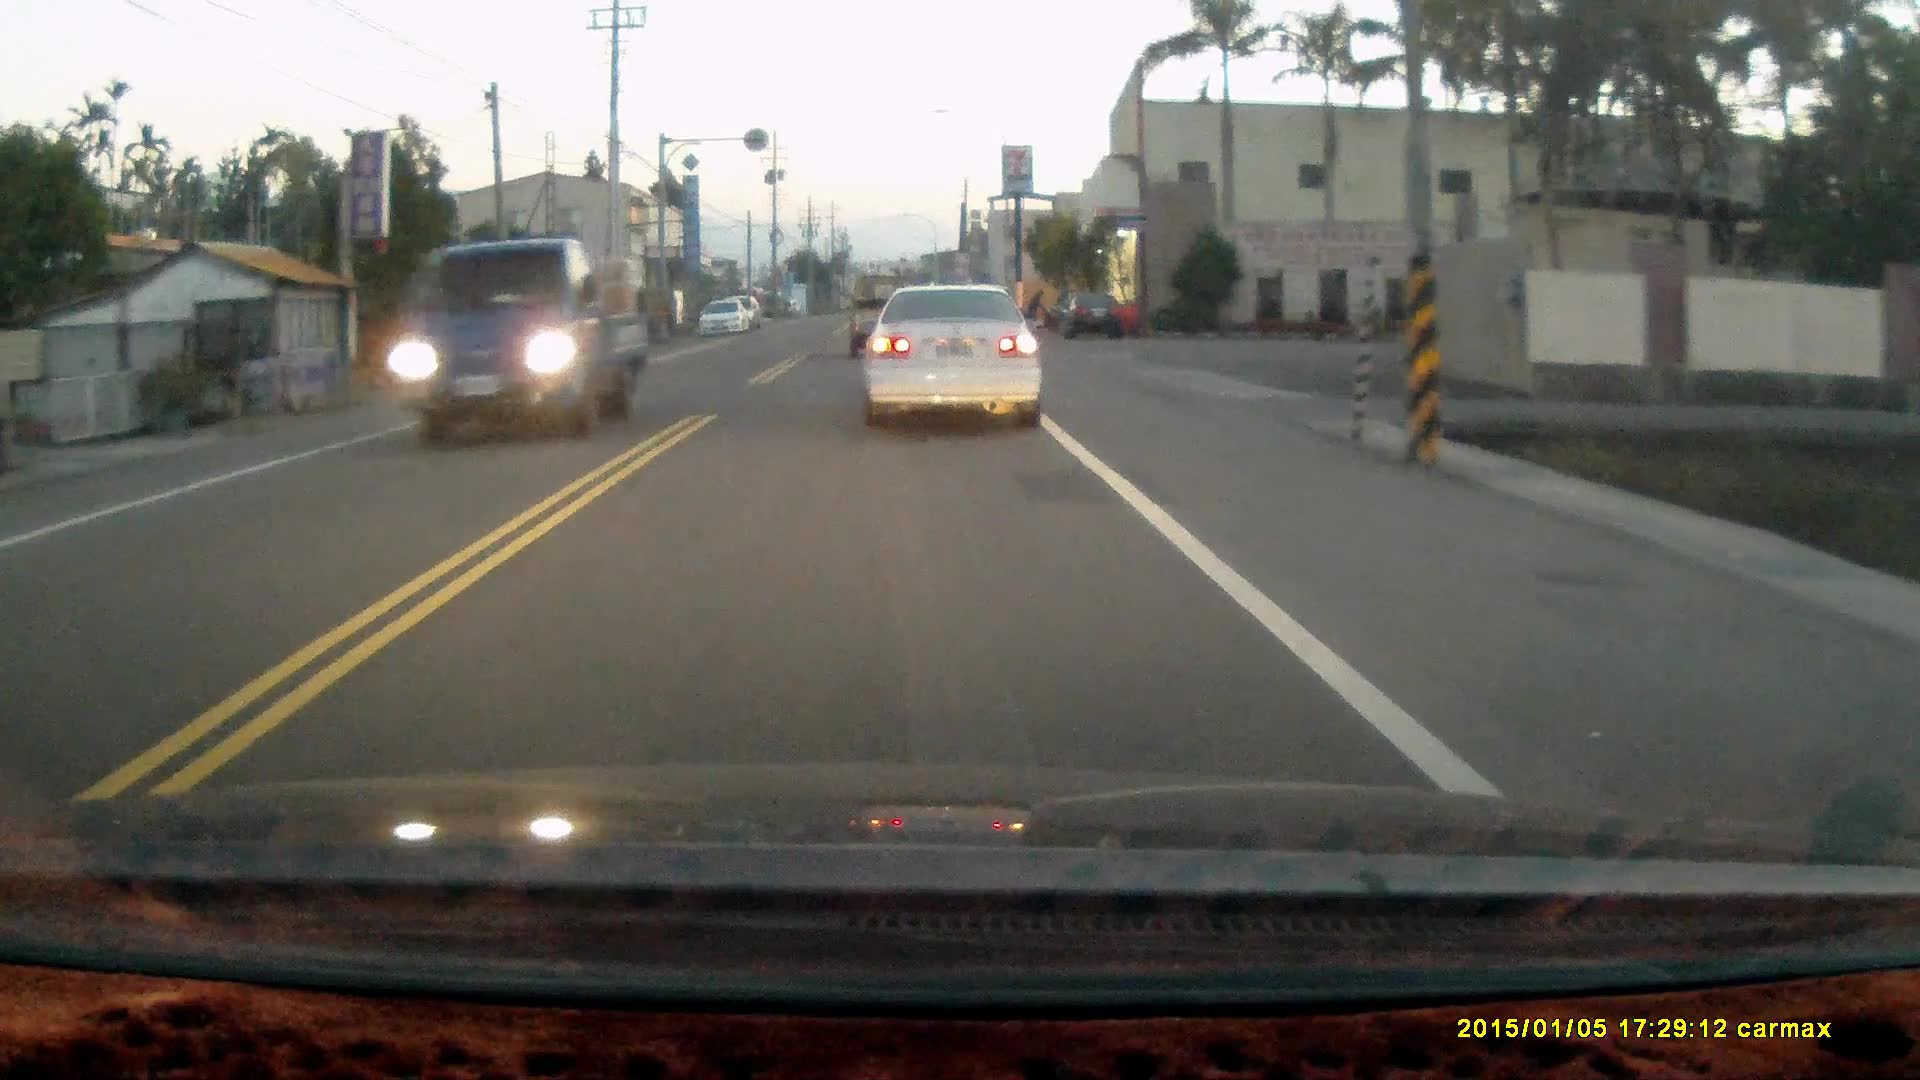rider: (1016, 285, 1056, 332)
vehicle: (390, 235, 654, 440), (870, 282, 1049, 435), (850, 275, 924, 363), (1060, 287, 1126, 341), (696, 296, 753, 342)
